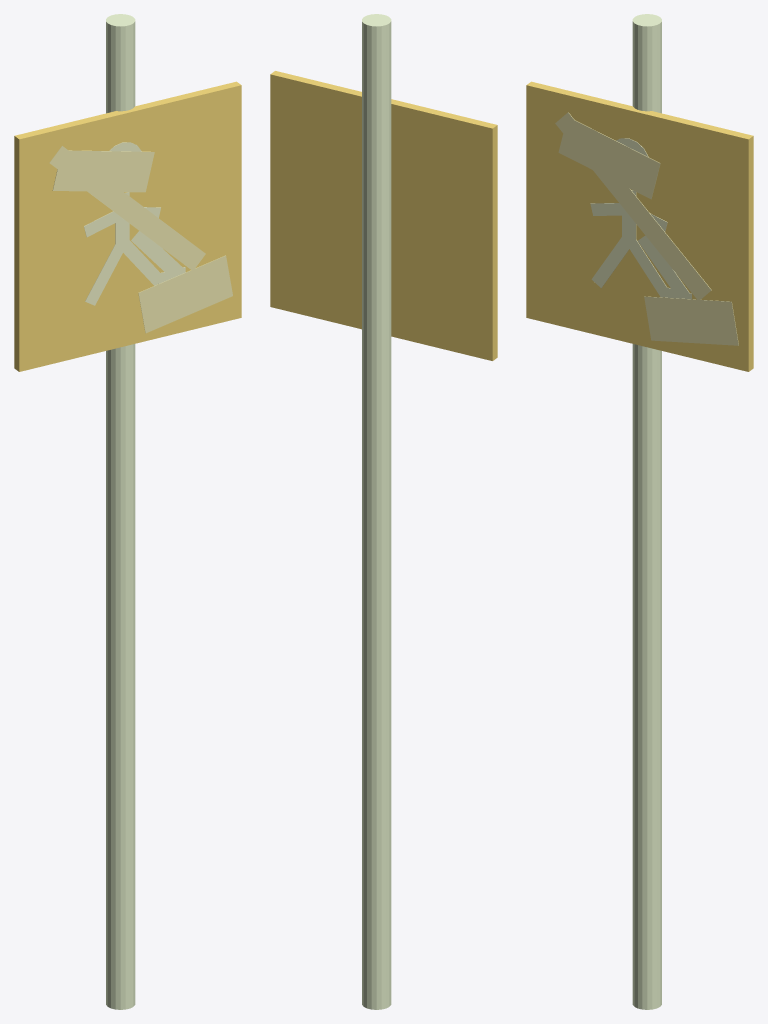
Rendered from sign_construction_weathered_heavy.glb.
3 views of the same model, side by side, from view 1: azimuth 30°, elevation 25°; view 2: azimuth 150°, elevation 25°; view 3: azimuth 330°, elevation 25° (orthographic).
Visible parts, largest first — view 1: plate_base_00, pole, layer_2_01, layer_2_00, layer_2_02, layer_1_06, layer_1_04, layer_1_05; view 2: plate_base_00, pole; view 3: plate_base_00, pole, layer_2_01, layer_2_00, layer_2_02, layer_1_06, layer_1_04, layer_1_05.
Part boxes in pixels (x1,y1,x2,y2): plate_base_00: (14, 81, 241, 371); pole: (106, 14, 135, 1009); layer_2_01: (138, 255, 232, 333); layer_2_00: (52, 150, 154, 192); layer_2_02: (49, 146, 205, 269); layer_1_06: (131, 231, 184, 278); layer_1_04: (85, 241, 127, 305); layer_1_05: (118, 239, 163, 285); plate_base_00: (270, 71, 497, 360); pole: (362, 14, 391, 1009); plate_base_00: (526, 81, 753, 371); pole: (632, 14, 661, 1009); layer_2_01: (644, 296, 738, 345); layer_2_00: (558, 117, 660, 199); layer_2_02: (555, 112, 711, 299); layer_1_06: (638, 235, 690, 298); layer_1_04: (591, 235, 633, 288); layer_1_05: (625, 236, 670, 297).
Bounding box in the file's own units: 0.5204 × 2.2 × 0.0725.
